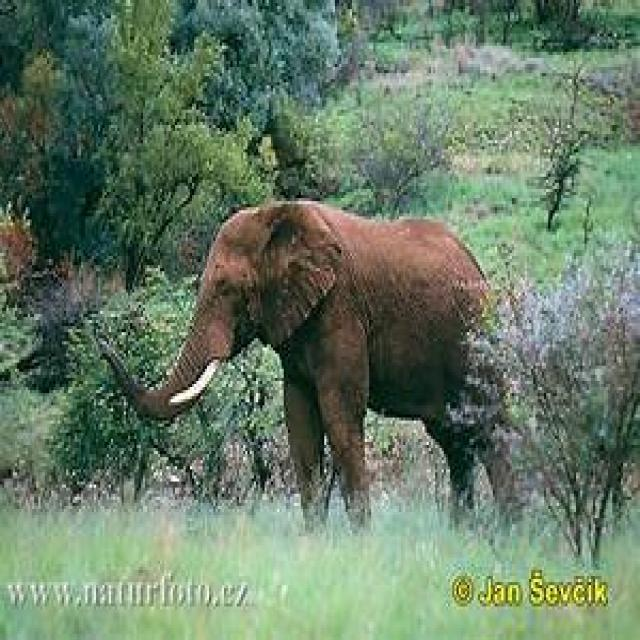elephant: (126, 201, 493, 530)
